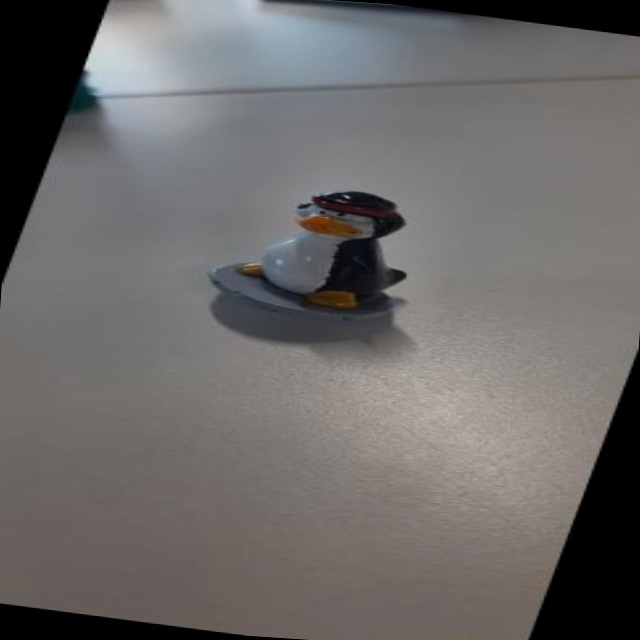Penguin: (192, 164, 463, 348)
